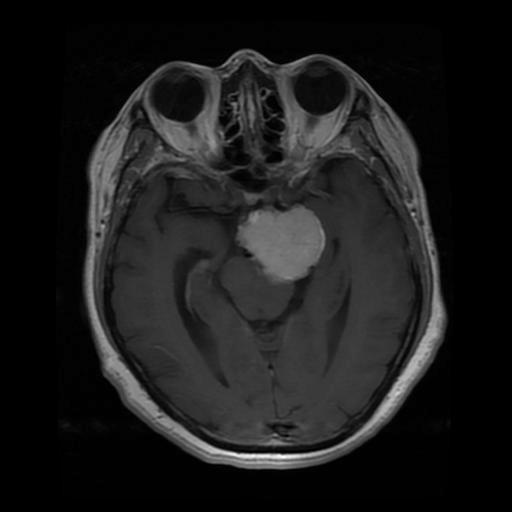Tumour-Pituitary: (218, 190, 354, 308)
